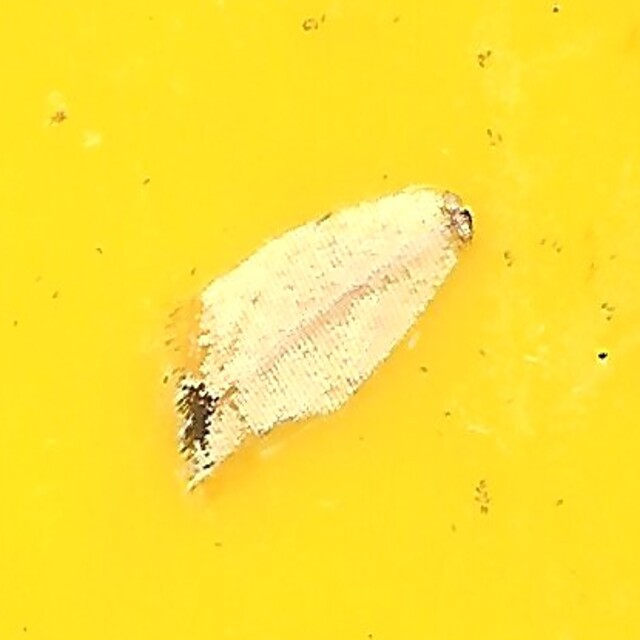Trichoptera: (154, 177, 486, 463)
